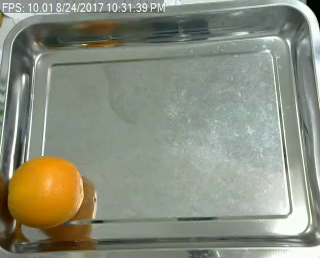Orange: (7, 156, 85, 228)
